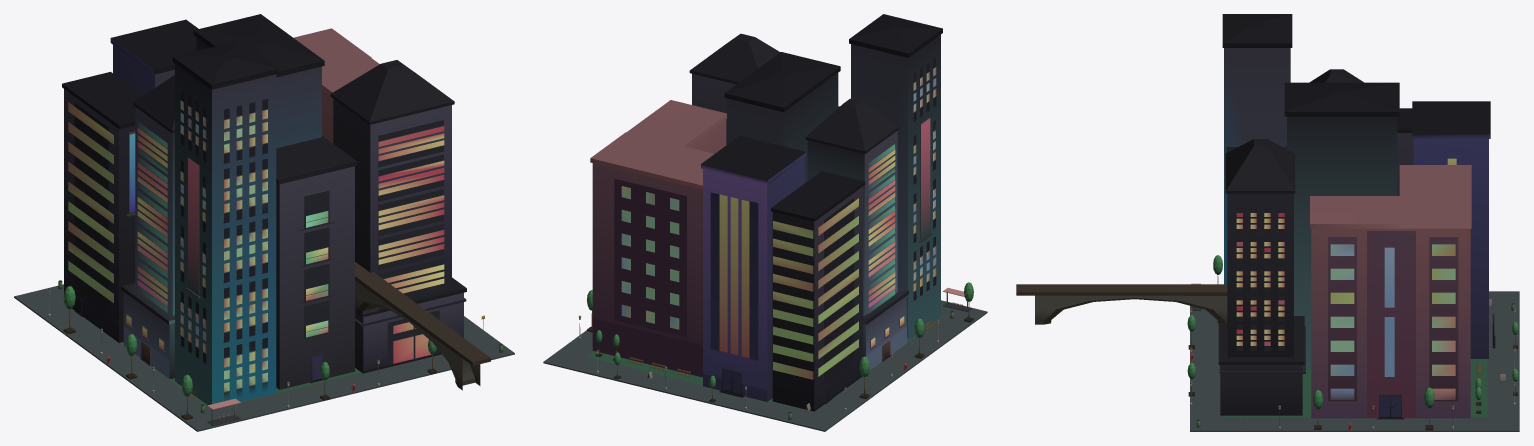
File: building-block-tall.fbx
3 renders of one model, left to right at view 1: azimuth 30°, elevation 25°; view 2: azimuth 150°, elevation 25°; view 3: azimuth 270°, elevation 25°, orthographic. The views are drawn at different scales.
Visible parts, largest first — view 1: building-block-tall; view 2: building-block-tall; view 3: building-block-tall.
Boxes of the visible parts, x1,y1,x2,y2 form: building-block-tall: [14, 14, 514, 431]; building-block-tall: [543, 14, 987, 431]; building-block-tall: [1016, 14, 1519, 431].
Size of the model in its own units: 40.95 by 45.16 by 62.38.
